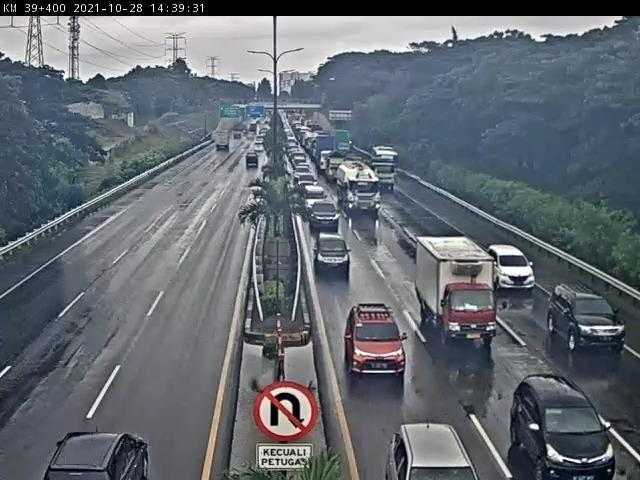car: (506, 370, 616, 480), (39, 418, 164, 480), (374, 417, 477, 480), (548, 281, 627, 354), (343, 305, 407, 377), (487, 243, 540, 297), (313, 233, 351, 278), (310, 201, 341, 234), (302, 186, 328, 213)
truck: (411, 234, 499, 349), (333, 159, 381, 216), (371, 156, 396, 191)
